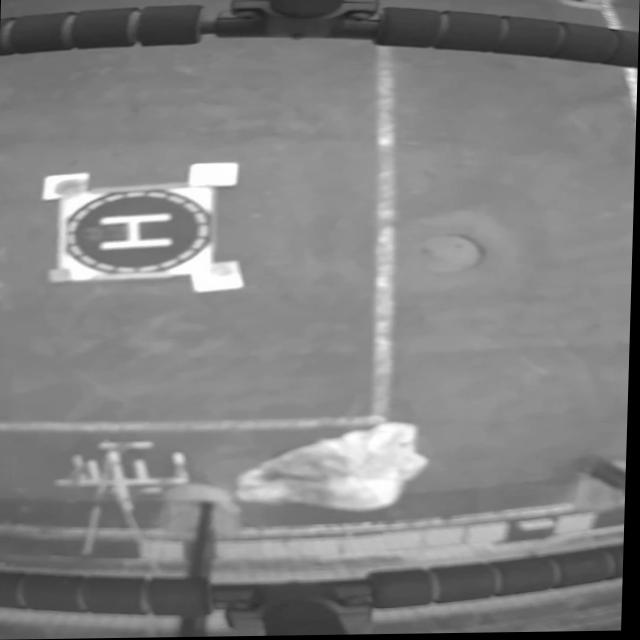Helipad: (97, 214, 176, 253)
